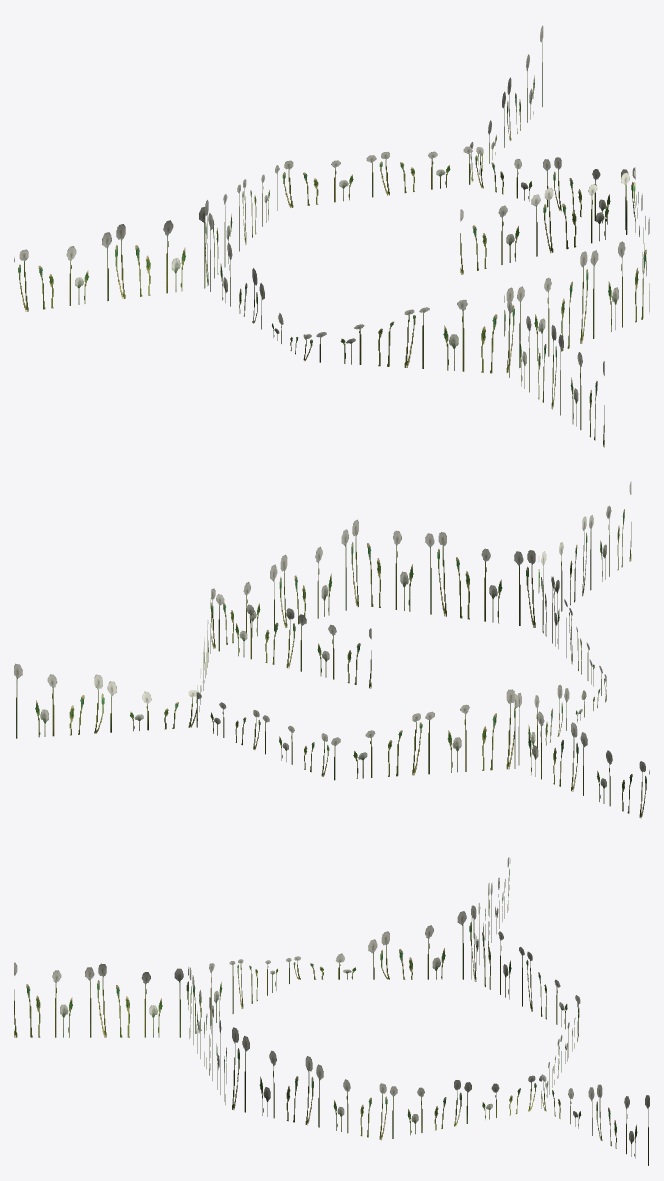
File: mveg1c.glb
3 views of the same model, one above another, from view 1: azimuth 30°, elevation 25°; view 2: azimuth 150°, elevation 25°; view 3: azimuth 270°, elevation 25° (orthographic). The views are drawn at different scales.
Visible parts, largest first — view 1: _mveg1c; view 2: _mveg1c; view 3: _mveg1c.
Boxes of the visible parts, left/top/right/bottom form: _mveg1c: left=14, top=25, right=649, bottom=447; _mveg1c: left=14, top=481, right=649, bottom=818; _mveg1c: left=14, top=857, right=649, bottom=1165.
Size of the model in its own units: 4.71 by 0.7577 by 4.89.
1 material, 1 textured.
